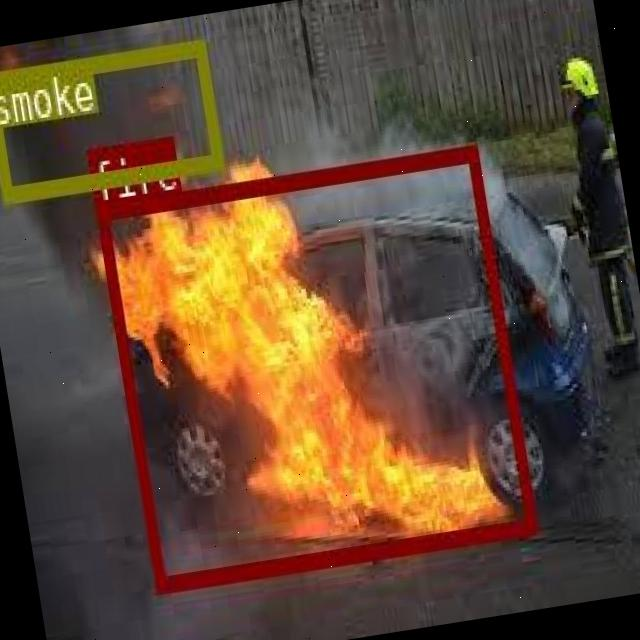fire: (94, 144, 536, 590)
smoke: (0, 38, 222, 200)
